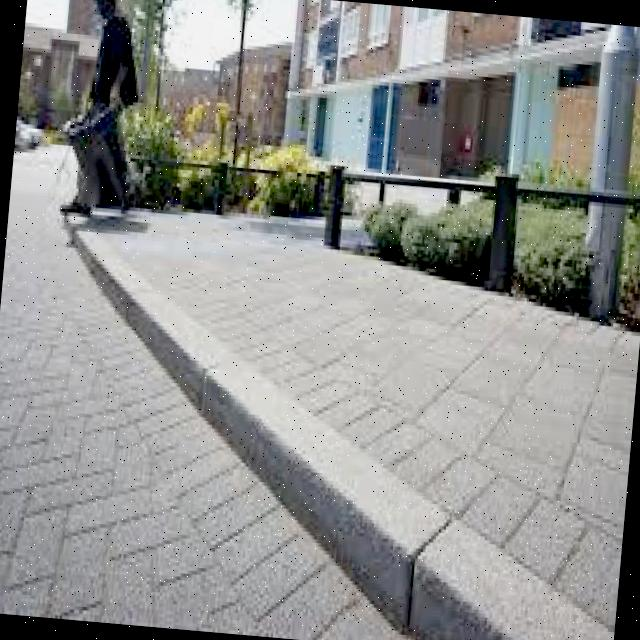curb: (62, 220, 614, 640)
